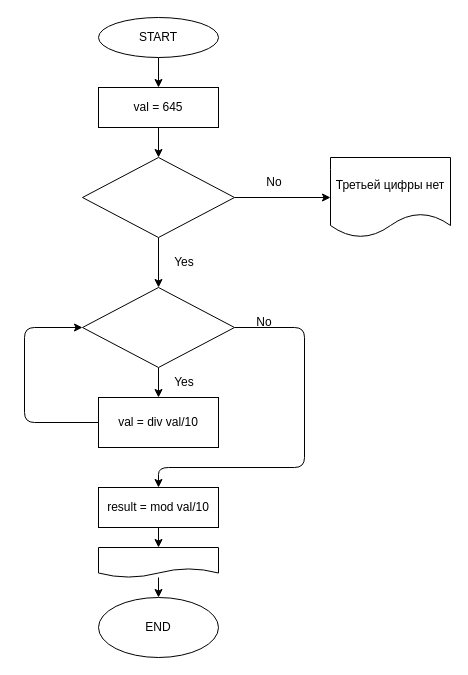
The diagram is 468 pixels wide and 675 high, and some of its shapes have lost their labels. The centre of each missing label's shape, as x and y in pixels:
"result" goes at pixel 158 562.
"val >99?" goes at pixel 158 197.
"val >= 1000" goes at pixel 158 327.
